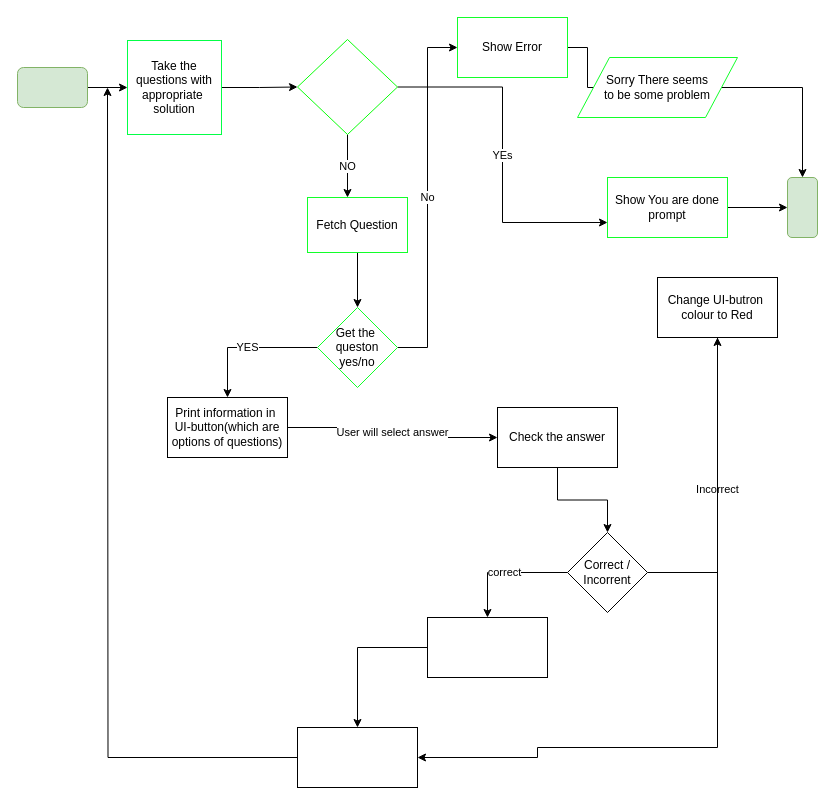
This 835x805 diagram has some shape labels left out. Here are the shapes that lost their labels. From the top down, the centre of each, then its label:
At point 52,87: "Starts".
At point 347,86: "Check if array Completed Yes/no".
At point 802,207: "END".
At point 487,647: "Show you are correct prompt".
At point 357,757: "Goto the next Question".
